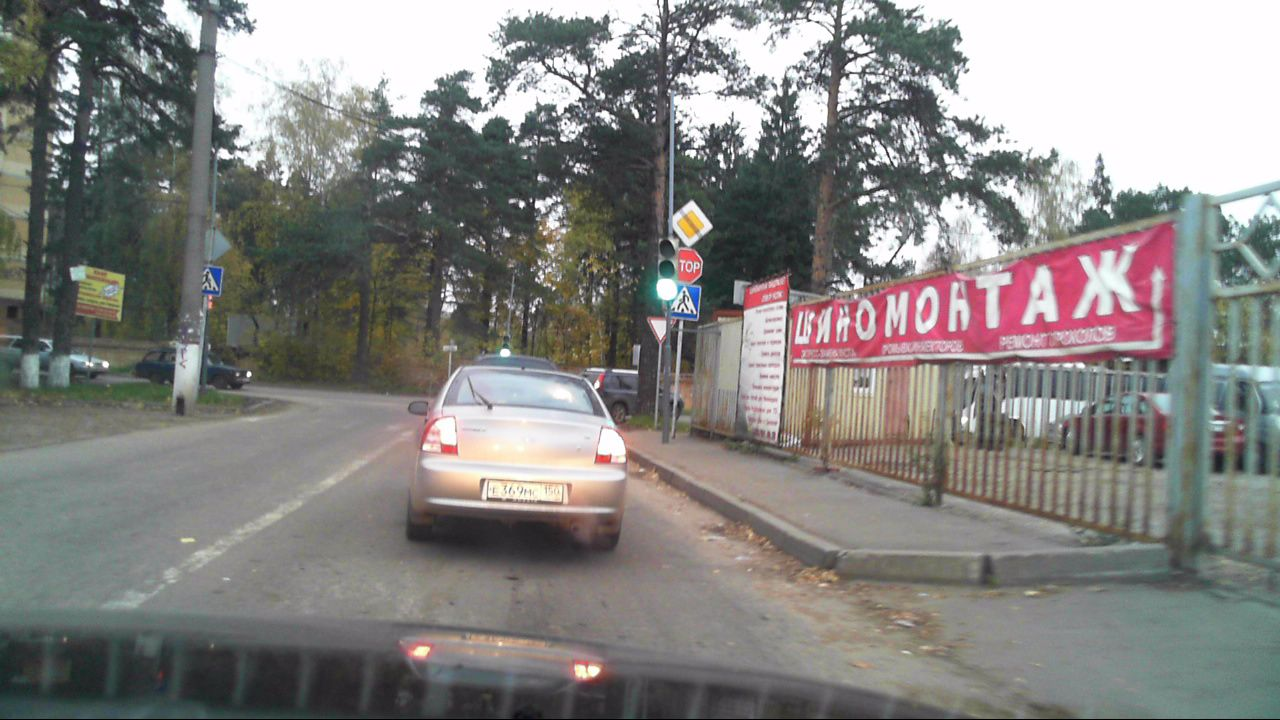main road: (669, 200, 713, 249)
